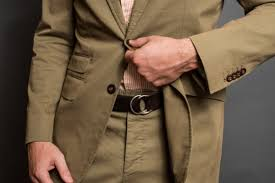F_belt: (107, 89, 173, 119)
